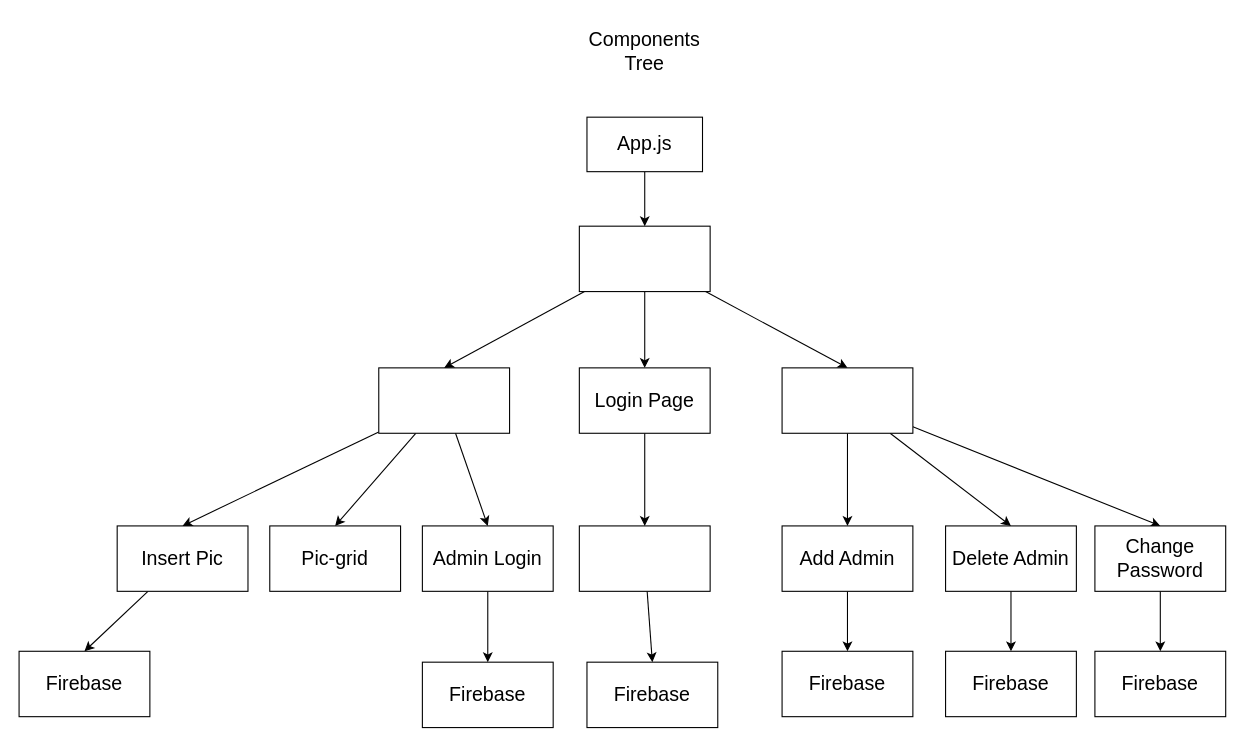
Some shapes in this 1245 by 747 pixel diagram are drawn without their labels. The shapes that lost their labels are listed below. From the top down, each one's centre as x and y in pixels, then its label:
the point at 644,258: Pages
the point at 444,400: Main
the point at 847,400: Admin Settings
the point at 644,558: Password
